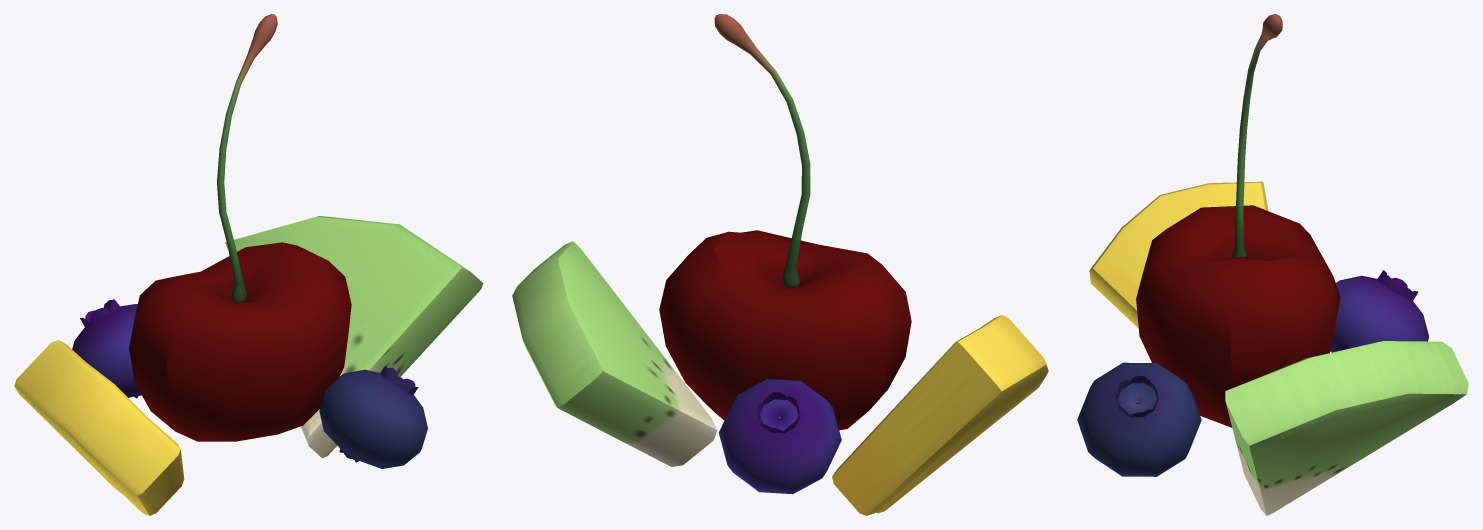
The model's file is Fruit_item.fbx.
The picture shows the model from 3 angles, left to right: view 1: azimuth 30°, elevation 25°; view 2: azimuth 150°, elevation 25°; view 3: azimuth 270°, elevation 25°; orthographic projection. The views are drawn at different scales.
Visible parts, largest first — view 1: 블루베리.002; view 2: 블루베리.002; view 3: 블루베리.002.
Part boxes in pixels (box(x1,y1,x2,y2)): 블루베리.002: box(14, 14, 483, 515); 블루베리.002: box(512, 14, 1048, 515); 블루베리.002: box(1077, 14, 1468, 515).
Size of the model in its own units: 428 by 405 by 300.
